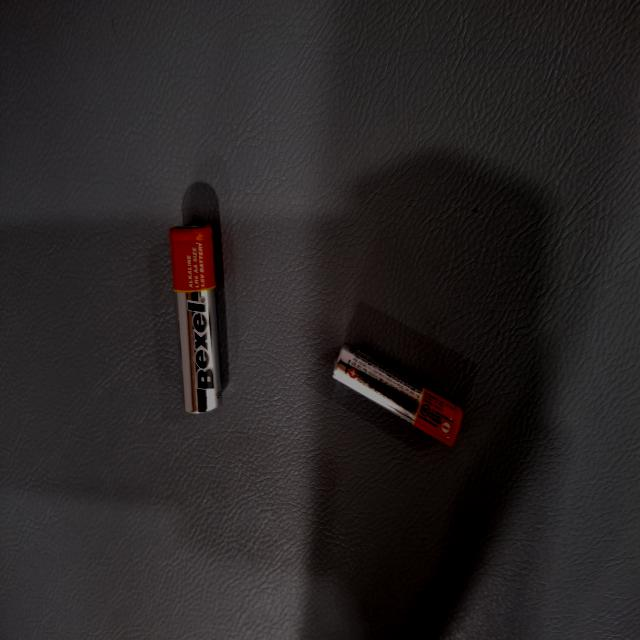AA: (418, 226, 471, 414)
AAA: (177, 195, 307, 293)
